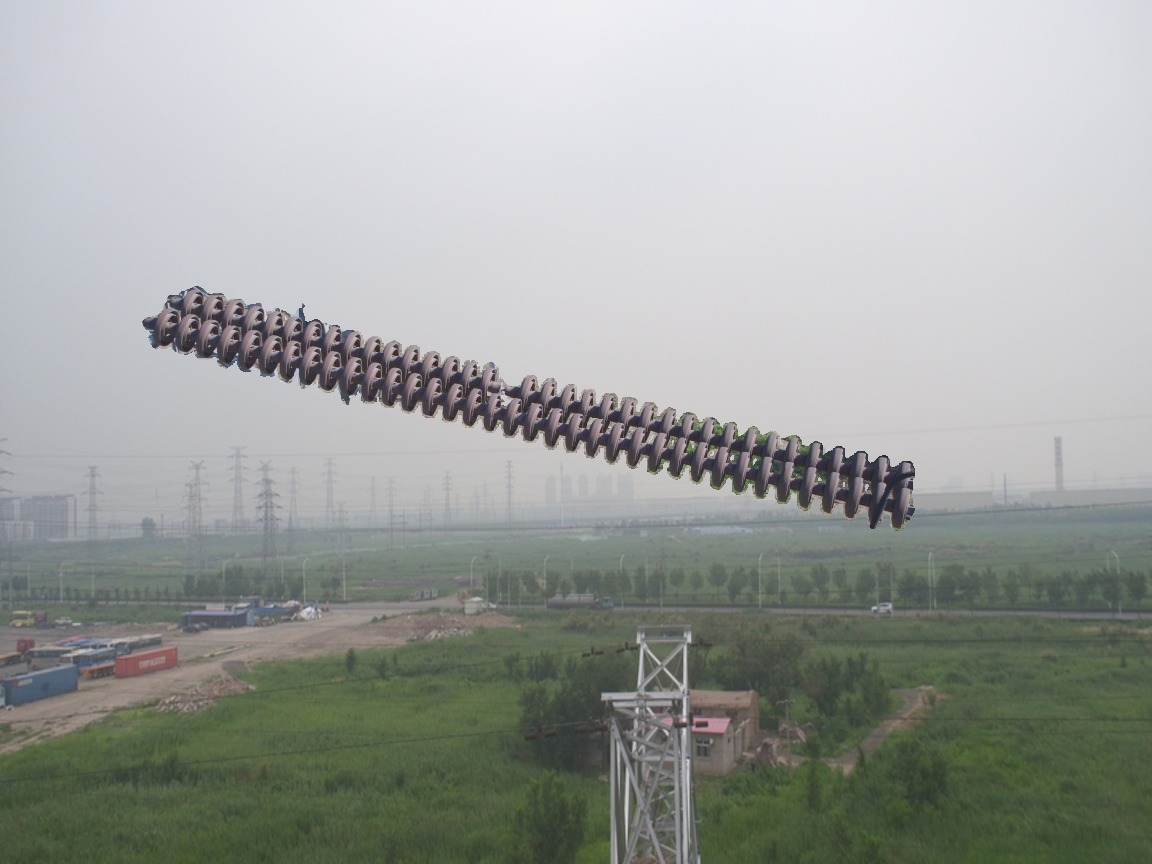defect: (476, 361, 538, 411)
